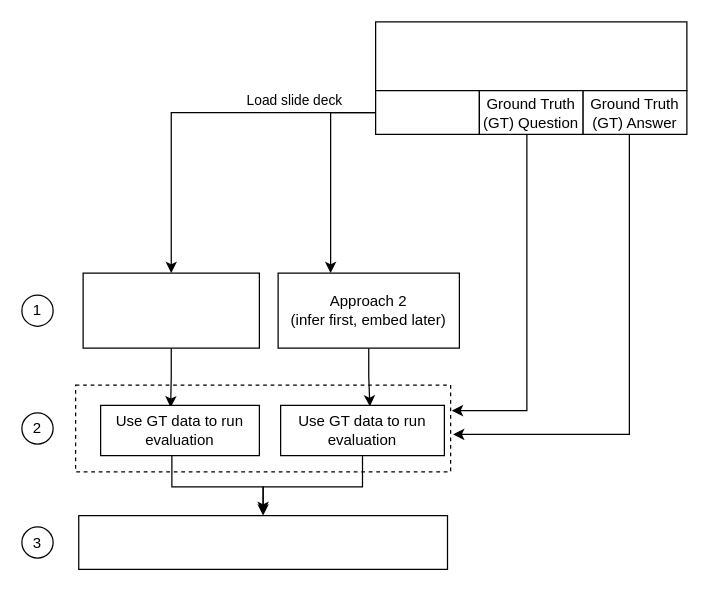
This 709x591 diagram has some shape labels left out. The box of each missing label's shape, as (x1, y1, x2, y2) in pixels:
Approach 1 (embed first, infer later): (82, 272, 259, 348)
Compare results: (78, 514, 448, 569)
Sample dataset using SlideVQA dataset containing:: (374, 21, 687, 91)
Slide deck: (374, 89, 479, 134)
